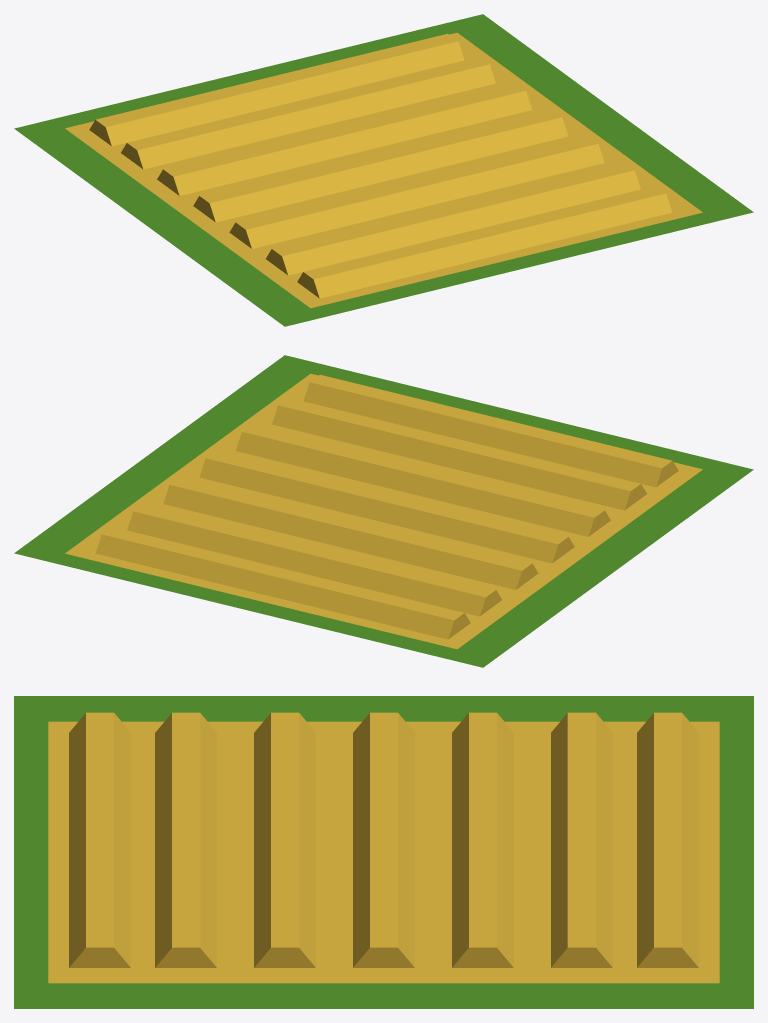
File: PlaneB.fbx
The picture shows the model from 3 angles, top to bottom: view 1: azimuth 30°, elevation 25°; view 2: azimuth 150°, elevation 25°; view 3: azimuth 270°, elevation 25°; orthographic projection. The views are drawn at different scales.
Visible parts, largest first — view 1: PlaneB; view 2: PlaneB; view 3: PlaneB.
Part boxes in pixels (left/top/right/bottom): PlaneB: left=14, top=14, right=753, bottom=326; PlaneB: left=14, top=355, right=753, bottom=667; PlaneB: left=14, top=696, right=753, bottom=1008.
Bounding box in the file's own units: 500 × 18.04 × 500.
